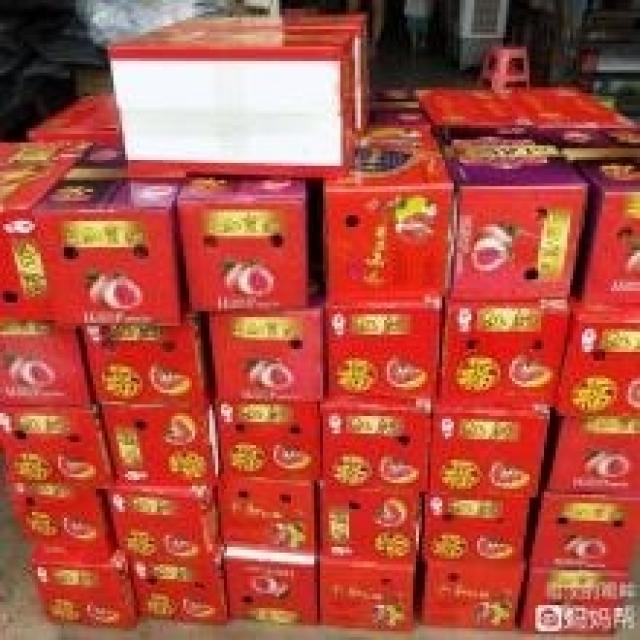box: (105, 26, 358, 177), (41, 145, 189, 326), (157, 12, 369, 137), (436, 128, 588, 300), (323, 102, 451, 300), (177, 180, 317, 311), (544, 125, 640, 303), (0, 143, 90, 323), (442, 300, 567, 407), (326, 303, 442, 407), (207, 303, 323, 401), (81, 320, 209, 404), (433, 407, 553, 495), (320, 404, 433, 495), (102, 404, 221, 489), (559, 300, 640, 416), (0, 410, 116, 486), (6, 486, 119, 564), (108, 483, 221, 561), (0, 317, 93, 407), (532, 495, 640, 570), (215, 404, 320, 480), (320, 486, 422, 564), (32, 556, 140, 628), (218, 480, 317, 556), (521, 567, 631, 634), (547, 416, 640, 495), (320, 561, 419, 634), (422, 561, 527, 628), (224, 553, 317, 625), (425, 495, 529, 559), (128, 561, 230, 625), (509, 84, 637, 128), (416, 87, 538, 128), (26, 90, 116, 145)
